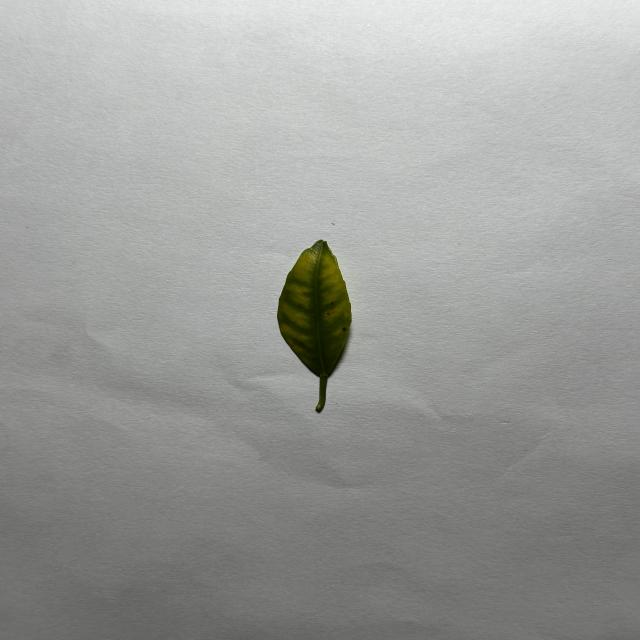greening: (277, 240, 352, 412)
